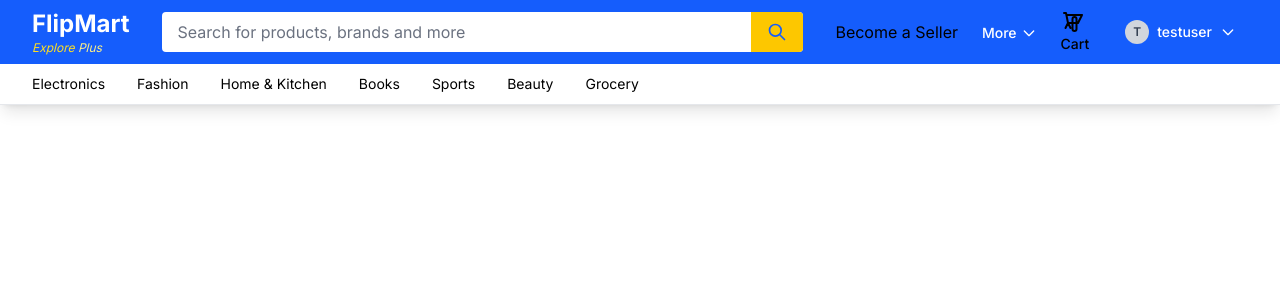
Scenario: Header Component › User Dropdown Menu › opens user dropdown when clicked
This screenshot has width=1280, height=293.
Click the text "testuser" at (1185, 32), box [1157,22,1212,42]
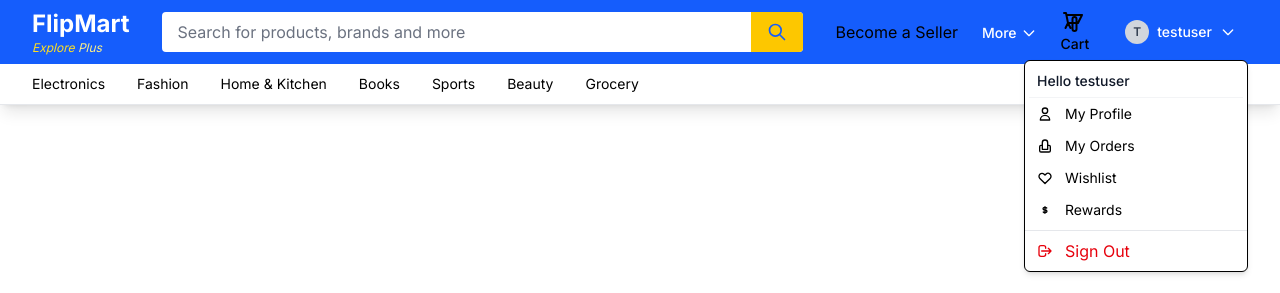
Expected: the text "Hello testuser" is shown, [1029,65,1243,98]
Expected: the button "My Profile" is shown, [1029,98,1243,130]
Expected: the button "My Orders" is shown, [1029,130,1243,162]
